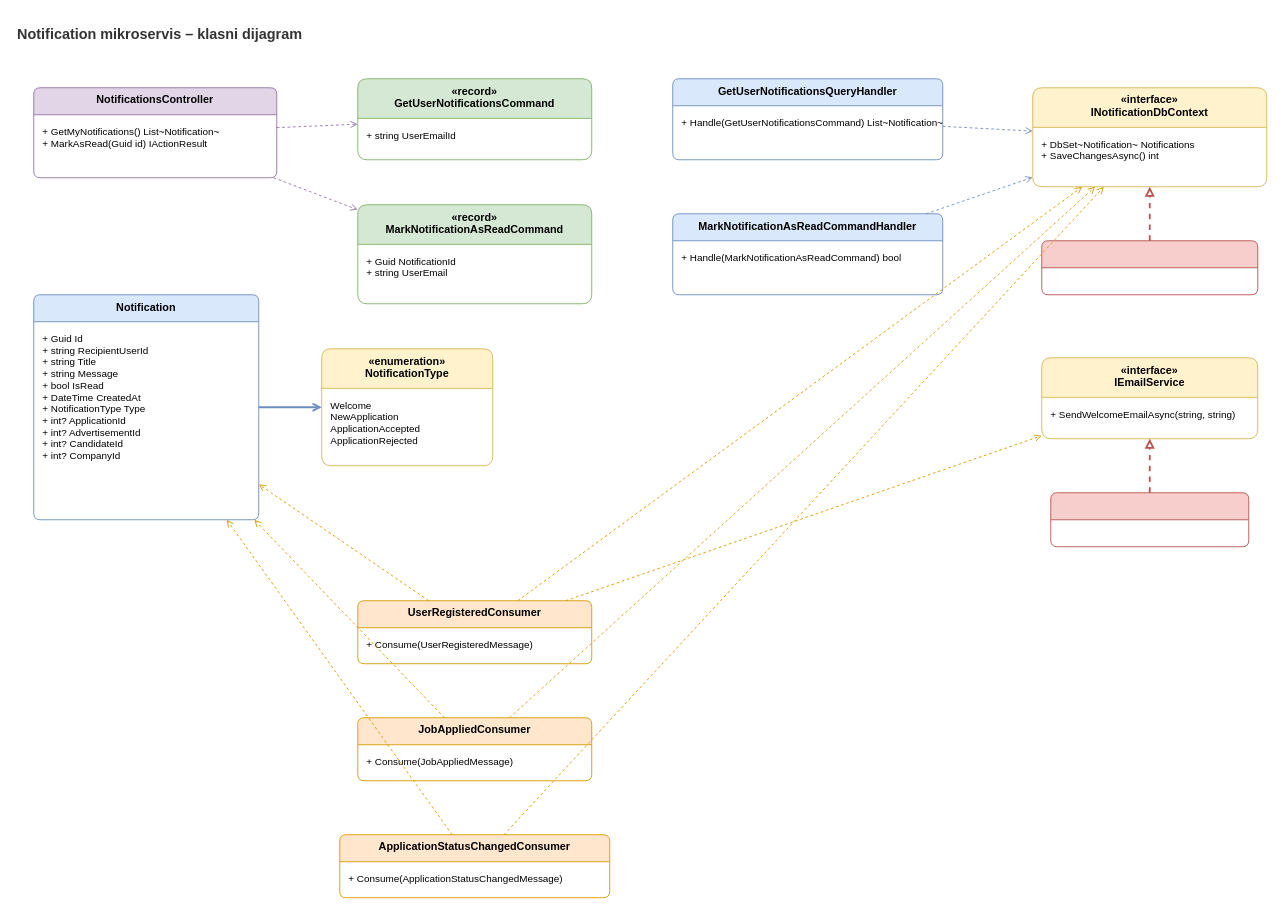
The diagram is 1283 pixels wide and 915 high, and some of its shapes have lost their labels. The shapes that lost their labels are listed below. From the top down, each one's centre as x and y in pixels, then its label:
(1149,267): NotificationDbContext
(1149,519): EmailService
